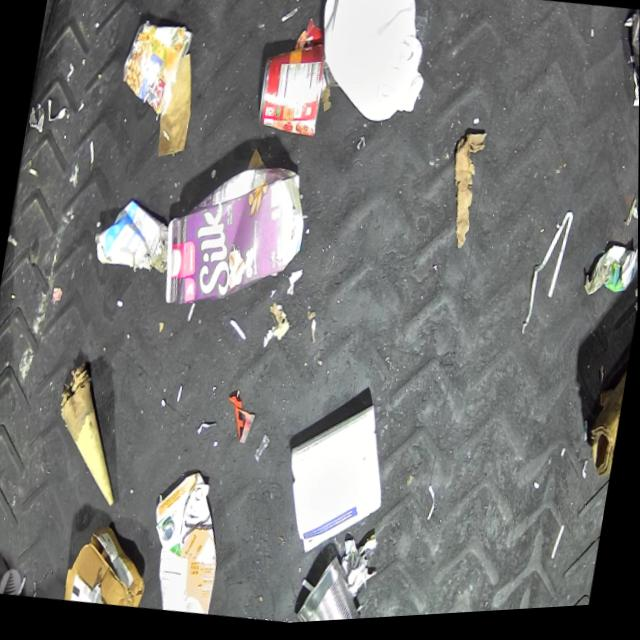can: (252, 38, 330, 146), (115, 17, 194, 122), (294, 552, 375, 626)
milk_jug: (305, 0, 439, 137)
non_white_jug: (155, 149, 312, 325), (141, 464, 235, 621)
